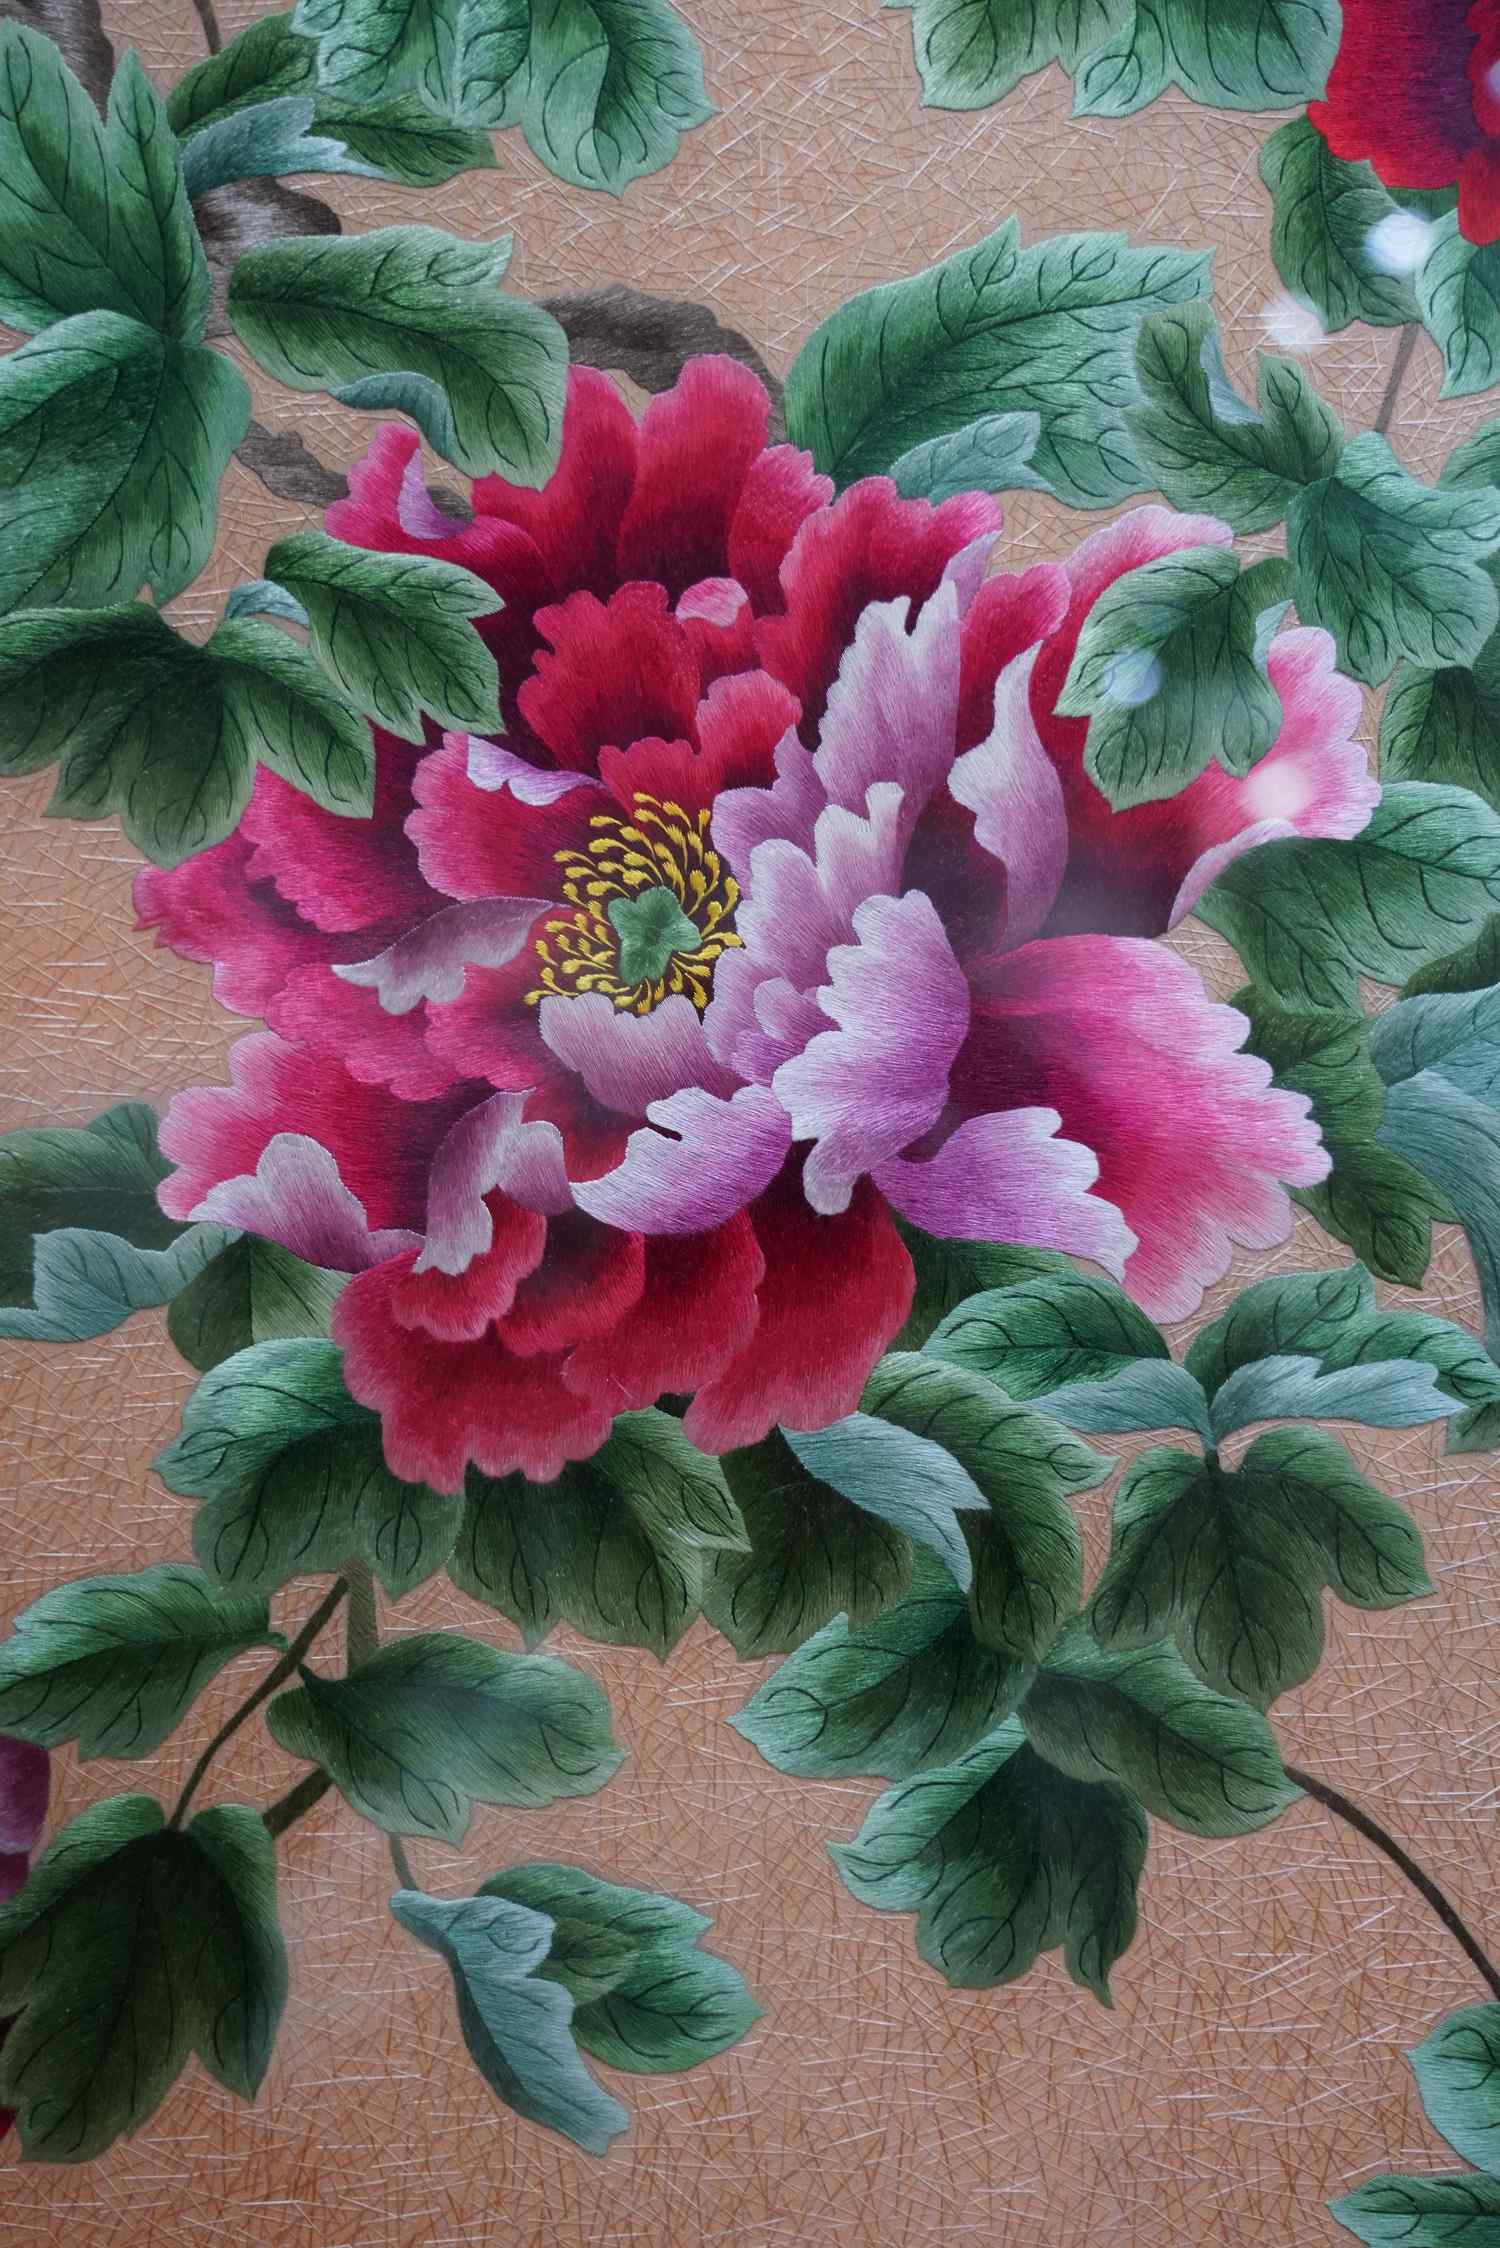flower: (127, 353, 1363, 1478), (1309, 2, 1498, 234)
